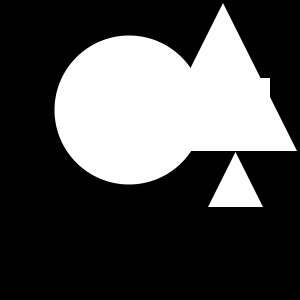circle: (211, 78, 270, 137)
rectangle: (54, 35, 204, 184)
triangle: (149, 3, 297, 151), (208, 152, 263, 207)
